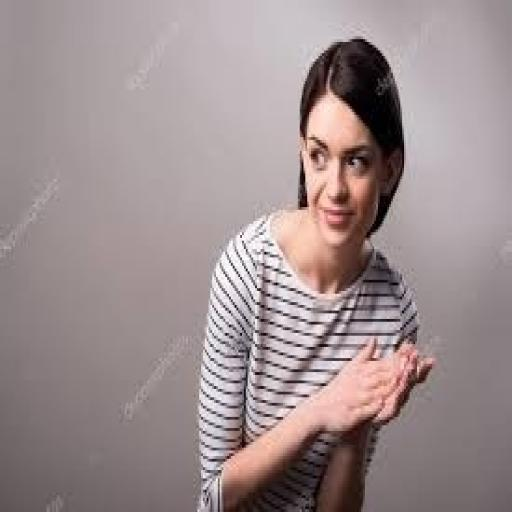clapping: (192, 34, 436, 509)
